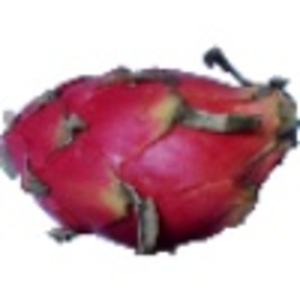pitaia: (1, 48, 300, 255)
